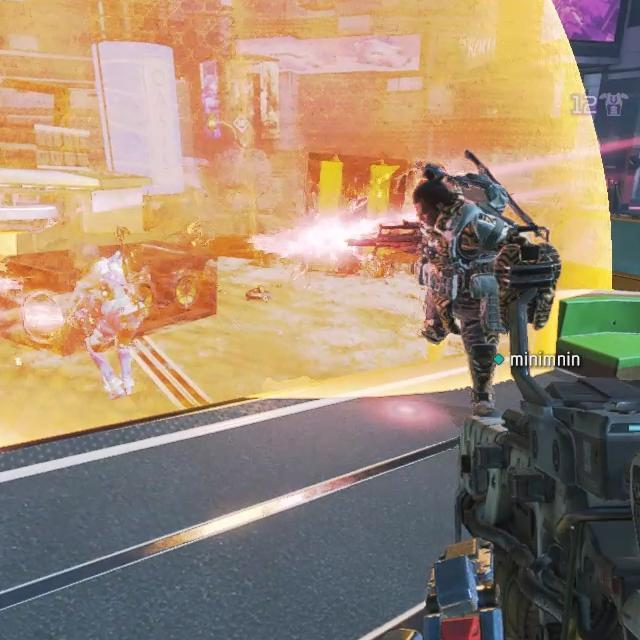avatar: (409, 159, 499, 405), (67, 241, 151, 399)
